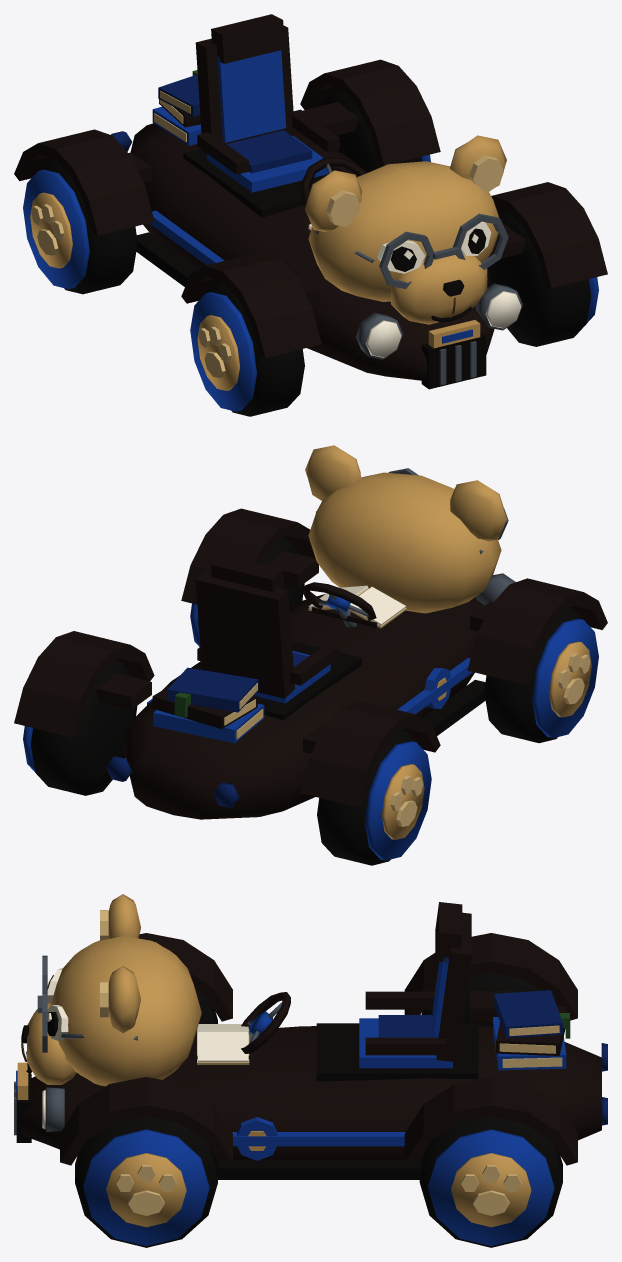
Rendered from Siwoo_cart.fbx.
The picture shows the model from 3 angles, top to bottom: view 1: azimuth 30°, elevation 25°; view 2: azimuth 150°, elevation 25°; view 3: azimuth 270°, elevation 25°; orthographic projection. The views are drawn at different scales.
Parts seen in each view (by area): view 1: Siwoo_cart_Body, Siwoo_cart_Wheel_FR, Siwoo_cart_Wheel_RR, Siwoo_cart_Wheel_FL, Siwoo_cart_Wheel_RL, Siwoo_cart_Steering; view 2: Siwoo_cart_Body, Siwoo_cart_Wheel_FR, Siwoo_cart_Wheel_RR, Siwoo_cart_Wheel_RL, Siwoo_cart_Steering, Siwoo_cart_Wheel_FL; view 3: Siwoo_cart_Body, Siwoo_cart_Wheel_RL, Siwoo_cart_Wheel_FL, Siwoo_cart_Steering, Siwoo_cart_Wheel_RR.
Part boxes in pixels (box(x1,y1,x2,y2)): Siwoo_cart_Body: box(14, 14, 607, 389); Siwoo_cart_Wheel_FR: box(190, 281, 304, 416); Siwoo_cart_Wheel_RR: box(23, 159, 137, 294); Siwoo_cart_Wheel_FL: box(487, 211, 598, 346); Siwoo_cart_Wheel_RL: box(321, 89, 430, 172); Siwoo_cart_Steering: box(301, 157, 365, 205); Siwoo_cart_Body: box(14, 445, 607, 819); Siwoo_cart_Wheel_FR: box(484, 608, 598, 743); Siwoo_cart_Wheel_RR: box(317, 730, 431, 865); Siwoo_cart_Wheel_RL: box(23, 660, 137, 795); Siwoo_cart_Steering: box(301, 582, 376, 620); Siwoo_cart_Wheel_FL: box(190, 538, 304, 646); Siwoo_cart_Body: box(14, 894, 607, 1179); Siwoo_cart_Wheel_RL: box(419, 1116, 562, 1247); Siwoo_cart_Wheel_FL: box(75, 1116, 217, 1247); Siwoo_cart_Steering: box(241, 992, 290, 1053); Siwoo_cart_Wheel_RR: box(421, 972, 541, 1026).
Bounding box in the file's own units: 1.09 × 1.5 × 0.6945.
